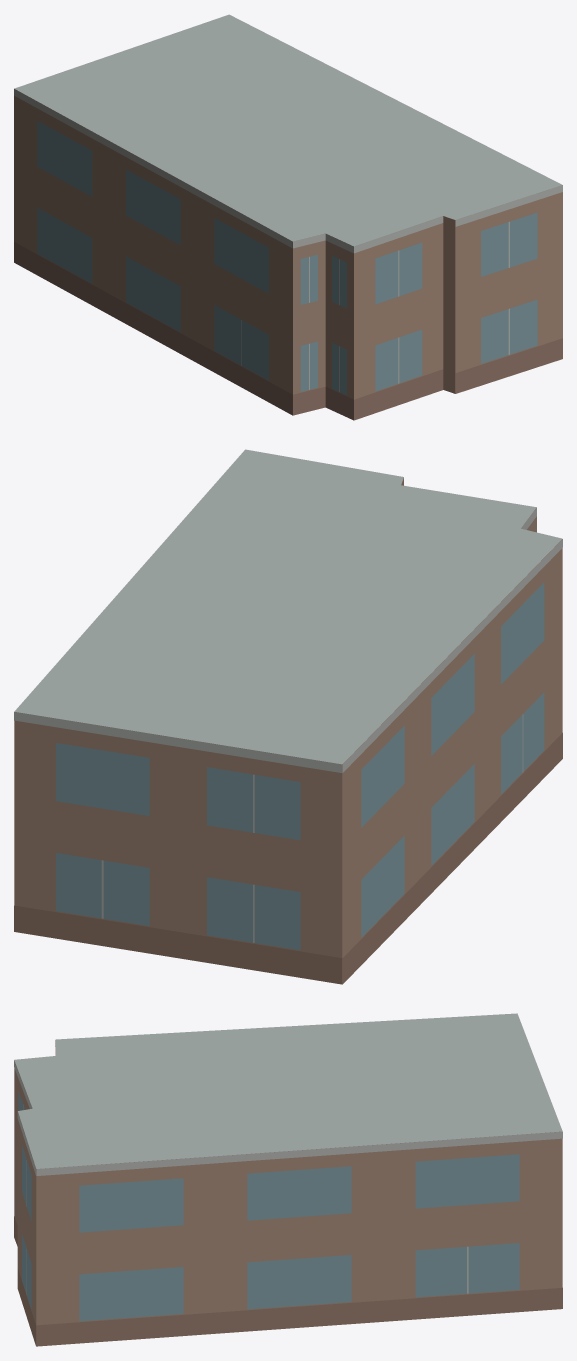
The model's file is survey-upis-32667691.glb.
3 views of the same model, one above another, from view 1: azimuth 30°, elevation 25°; view 2: azimuth 150°, elevation 25°; view 3: azimuth 270°, elevation 25° (orthographic). The views are drawn at different scales.
Visible parts, largest first — view 1: survey-upis-32667691.tmp; view 2: survey-upis-32667691.tmp; view 3: survey-upis-32667691.tmp.
Part boxes in pixels (box(x1,y1,x2,y2)): survey-upis-32667691.tmp: box(14, 14, 562, 420); survey-upis-32667691.tmp: box(14, 449, 562, 984); survey-upis-32667691.tmp: box(14, 1013, 562, 1346).
Size of the model in its own units: 11.49 by 6.1 by 17.11.
